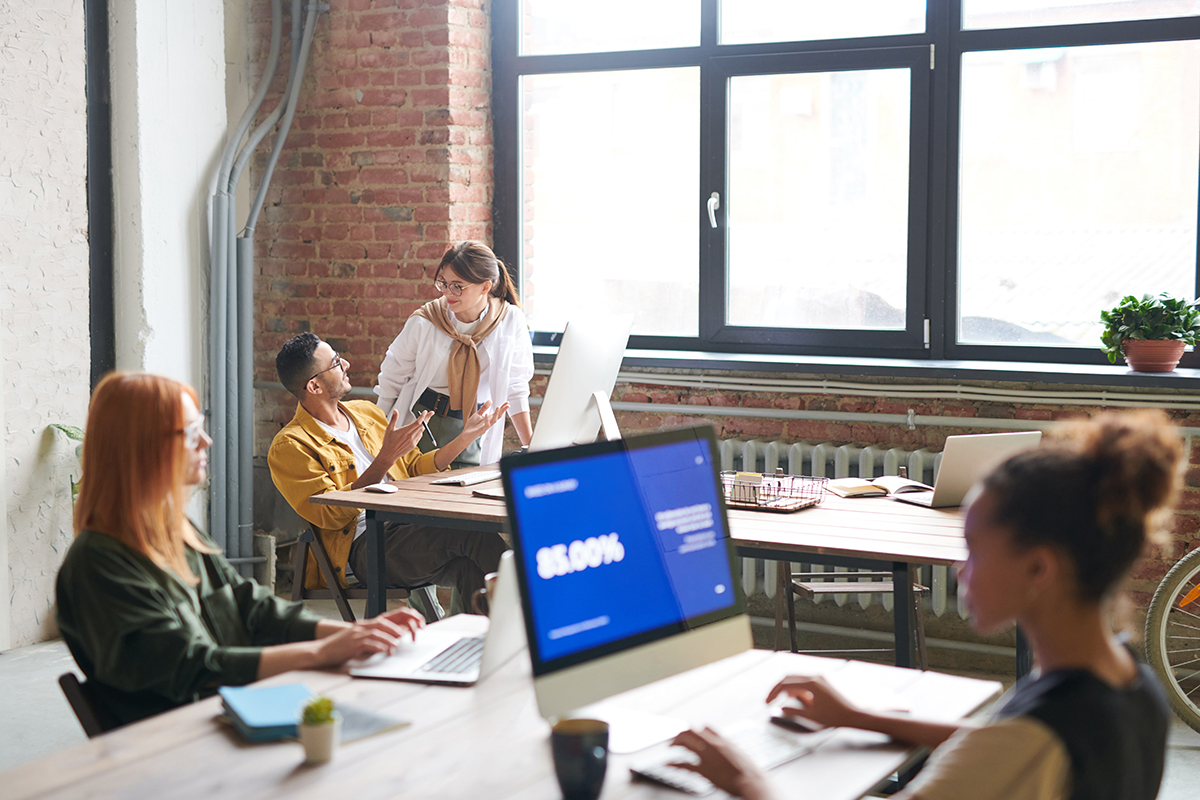person: (668, 411, 1177, 800), (51, 373, 423, 705), (267, 331, 508, 615), (374, 240, 538, 468)
